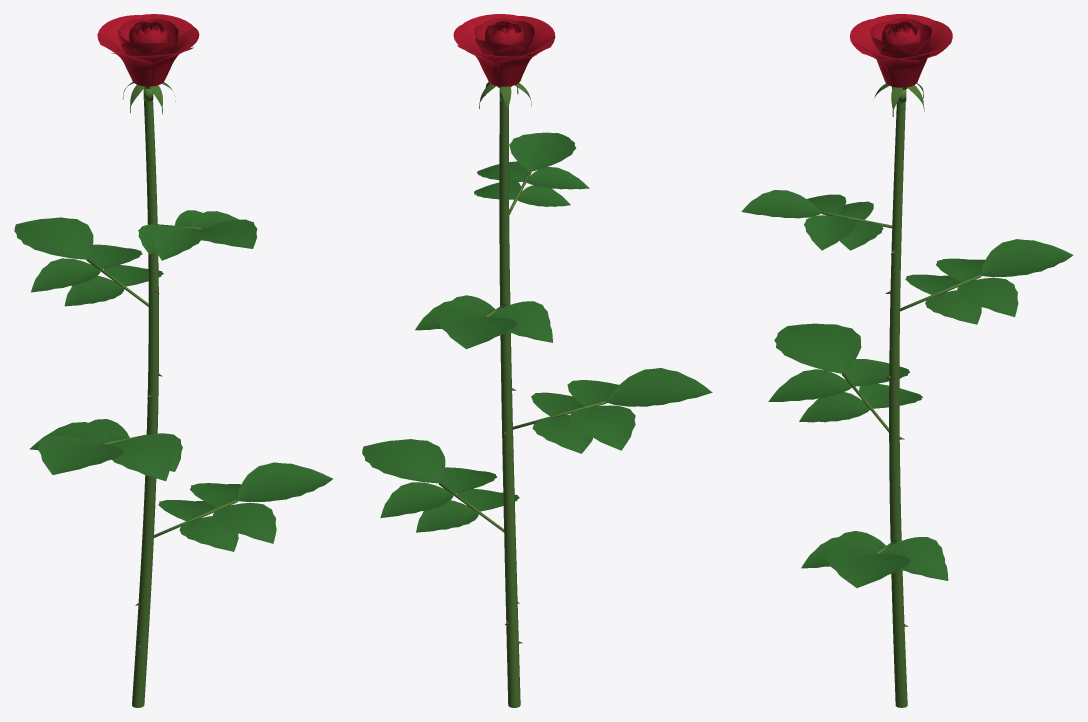
The model's file is rosa_3_copa_pasado.obj.
3 views of the same model, side by side, from view 1: azimuth 30°, elevation 25°; view 2: azimuth 150°, elevation 25°; view 3: azimuth 270°, elevation 25° (orthographic).
Parts seen in each view (by area): view 1: hoja, tallo, petalo; view 2: hoja, tallo, petalo; view 3: hoja, tallo, petalo.
Boxes of the visible parts, x1,y1,x2,y2 form: hoja: (14, 210, 332, 551); tallo: (86, 88, 237, 707); petalo: (97, 14, 199, 86); hoja: (362, 132, 712, 532); tallo: (438, 88, 606, 707); petalo: (453, 14, 555, 86); hoja: (741, 190, 1073, 587); tallo: (821, 89, 981, 707); petalo: (850, 14, 952, 87).
Size of the model in its own units: 0.3007 by 0.6173 by 0.272.
